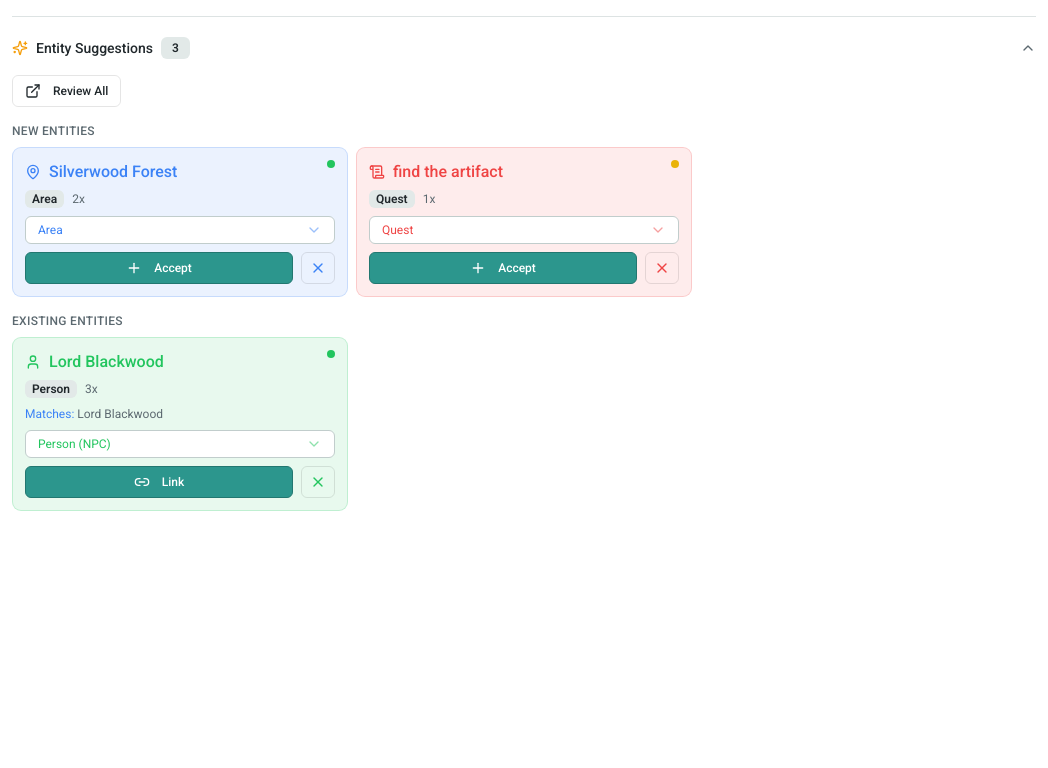
Test: EntitySuggestionsPanel › link existing entity (PRD-047) › creates a backlink and shows Linked state with evidence snippet and Undo
This screenshot has width=1048, height=768.
Expected: the heading "Existing Entities" is shown, [12,314,123,328]
Click the button "Link".
click(159, 482)  # box [25,466,293,498]
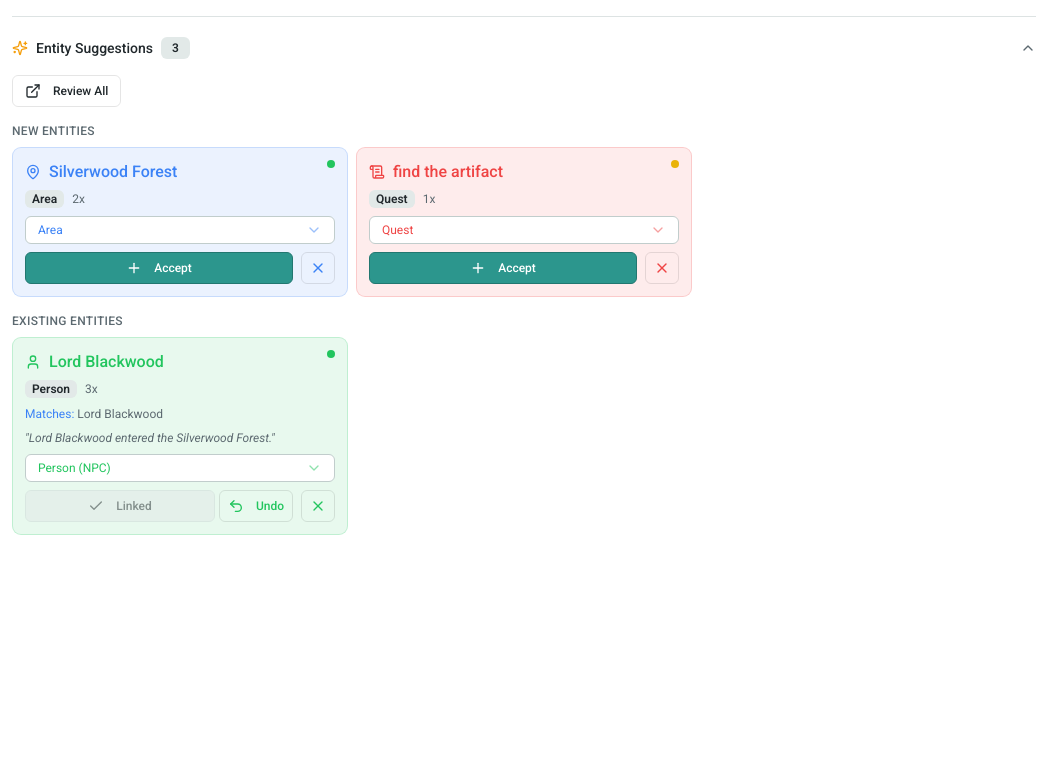
Expected: the button "Linked" is shown, [25,490,215,522]
Expected: the text with test id "linked-snippet" shows "Lord Blackwood", [29,431,271,445]
Expected: the button "Undo" is shown, [219,490,293,522]
